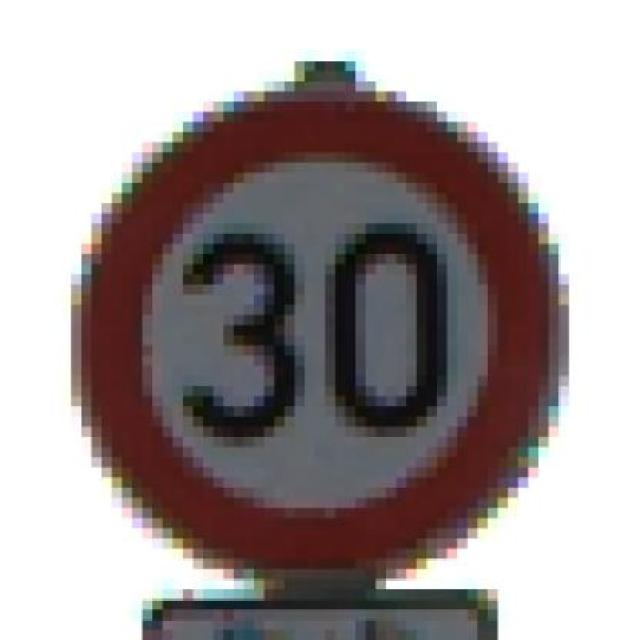Speed Limit 30 KMPh: (41, 61, 599, 610)
